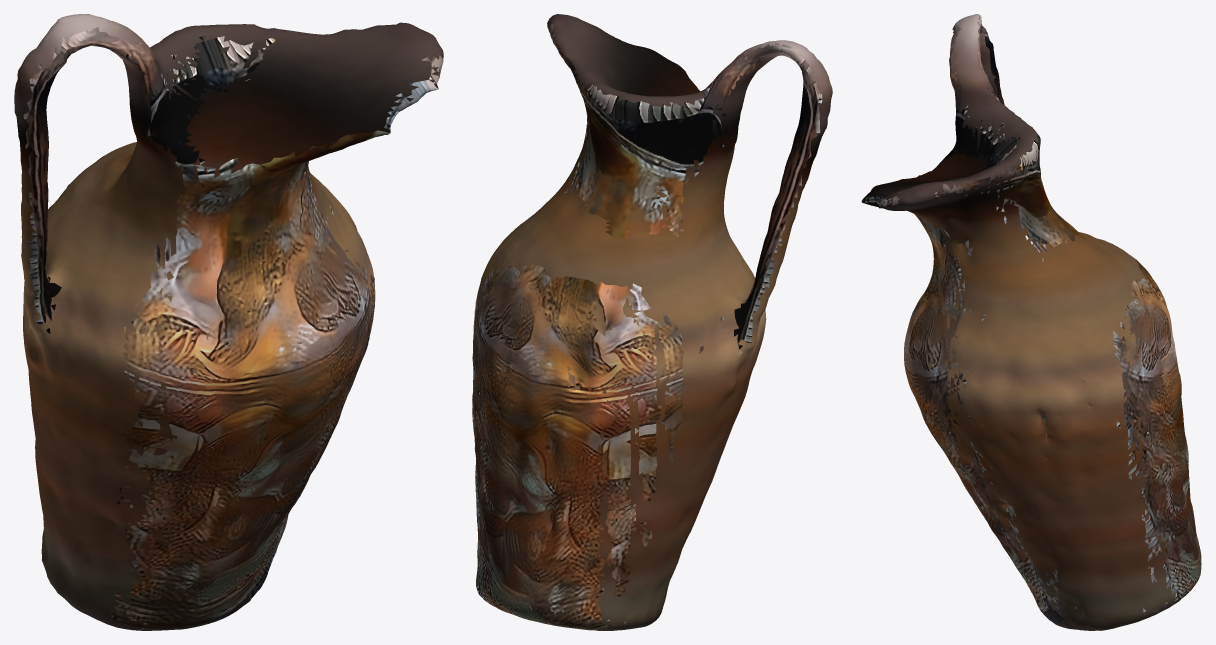
The model's file is kfl-2241.glb.
3 renders of one model, left to right at view 1: azimuth 30°, elevation 25°; view 2: azimuth 150°, elevation 25°; view 3: azimuth 270°, elevation 25°, orthographic. The views are drawn at different scales.
Parts seen in each view (by area): view 1: kfl-2241; view 2: kfl-2241; view 3: kfl-2241.
Boxes of the visible parts, x1,y1,x2,y2 form: kfl-2241: [14, 14, 443, 630]; kfl-2241: [472, 14, 832, 630]; kfl-2241: [861, 14, 1201, 630].
Bounding box in the file's own units: 0.5708 × 0.9912 × 0.5774.
Materials: 4 (4 with a texture image).
